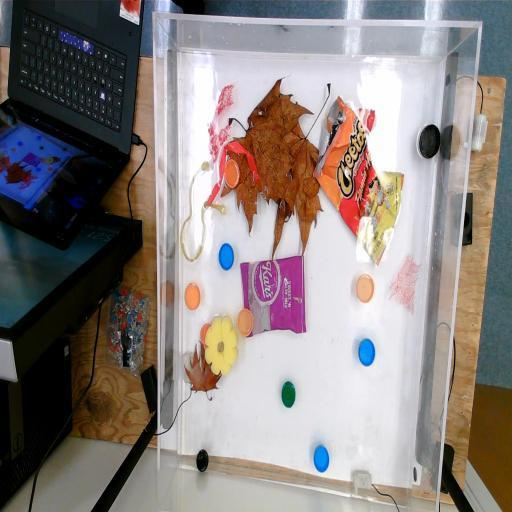Bottle Cap: (418, 122, 441, 160), (312, 443, 330, 474), (224, 156, 240, 190), (358, 337, 376, 367), (356, 272, 374, 302), (184, 282, 201, 311), (237, 307, 253, 336), (218, 242, 234, 270), (281, 380, 296, 408), (199, 322, 213, 348), (196, 448, 209, 474)
Cone Cap: (356, 104, 377, 132)
Leaf: (221, 74, 314, 236), (262, 81, 332, 260), (182, 342, 222, 402)
Netting: (206, 79, 236, 165), (388, 254, 421, 316)
Plastic Bag: (312, 94, 405, 268), (239, 254, 306, 337)
Plastic Strand: (180, 159, 228, 264), (206, 140, 260, 204)
Sponge: (204, 314, 239, 375)
